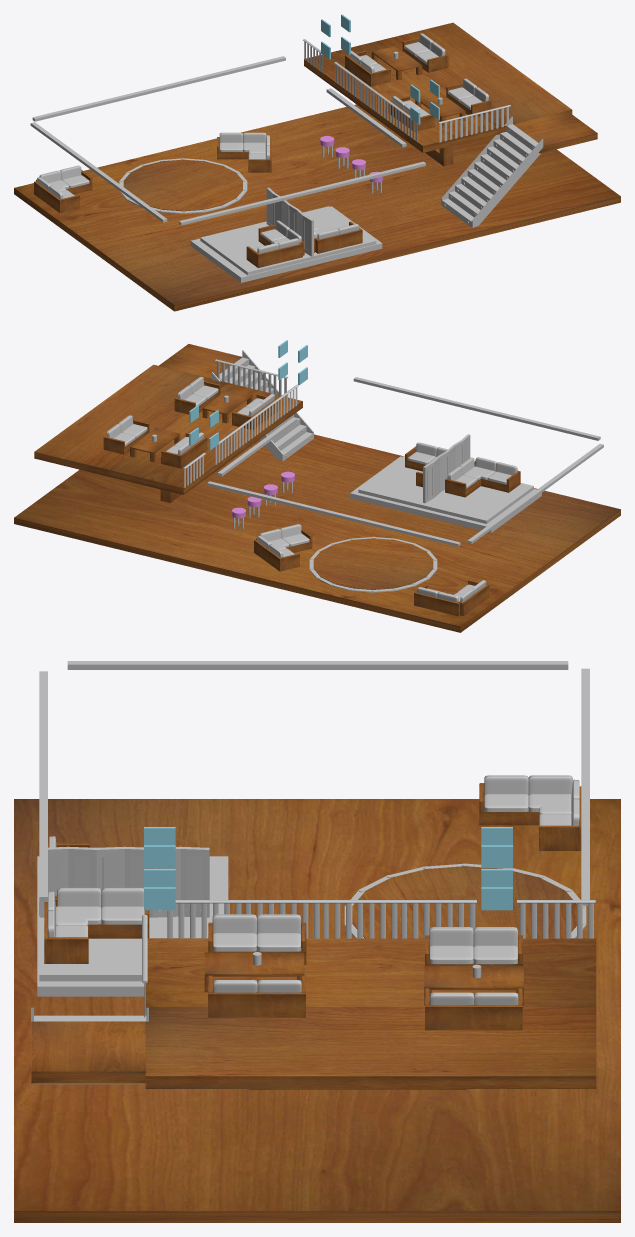
The model's file is Club_1.FBX.
The picture shows the model from 3 angles, top to bottom: view 1: azimuth 30°, elevation 25°; view 2: azimuth 150°, elevation 25°; view 3: azimuth 270°, elevation 25°; orthographic projection. The views are drawn at different scales.
Parts seen in each view (by area): view 1: Box03, Wall01, StraightStair01, Cylinder02, Box08, Railing05, Box01, Box07, Box159, Box157, Box158, Box06 (+14 smaller); view 2: Box03, Wall01, Cylinder02, Box08, Railing05, StraightStair01, Box07, Box01, Box159, Box157, Box06, Box158 (+16 smaller); view 3: Box03, Wall01, Cylinder02, Railing05, Box01, Box08, Box158, Box06, Sofa01, Sofa03, Box138, Box125 (+24 smaller).
Boxes of the visible parts, x1,y1,x2,y2 form: Box03: (14,104,620,311); Wall01: (304,22,572,152); StraightStair01: (441,116,543,227); Cylinder02: (123,159,242,211); Box08: (200,206,376,275); Railing05: (303,39,510,142); Box01: (513,111,597,153); Box07: (190,206,382,282); Box159: (32,56,285,121); Box157: (179,161,425,225); Box158: (30,122,167,222); Box06: (266,187,313,256); Box03: (14,434,620,632); Wall01: (34,364,302,494); Cylinder02: (313,538,433,589); Box08: (358,455,533,523); Railing05: (182,359,298,487); StraightStair01: (212,350,313,461); Box07: (350,456,541,532); Box01: (159,344,242,378); Box159: (207,481,460,546); Box157: (353,377,600,440); Box06: (423,434,470,503); Box158: (467,444,603,544); Box03: (14,799,620,1222); Wall01: (145,938,596,1088); Cylinder02: (352,866,576,938); Railing05: (142,900,595,1017); Box01: (31,1021,145,1083); Box08: (39,856,218,981); Box158: (67,661,568,669); Box06: (39,846,209,917); Sofa01: (212,914,300,951); Sofa03: (429,927,517,964); Box138: (48,856,202,910); Box125: (208,975,305,1017).
Size of the model in its own units: 2131 by 599 by 1326.
